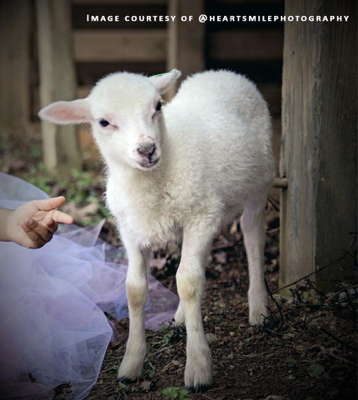koyun: (39, 63, 271, 391)
